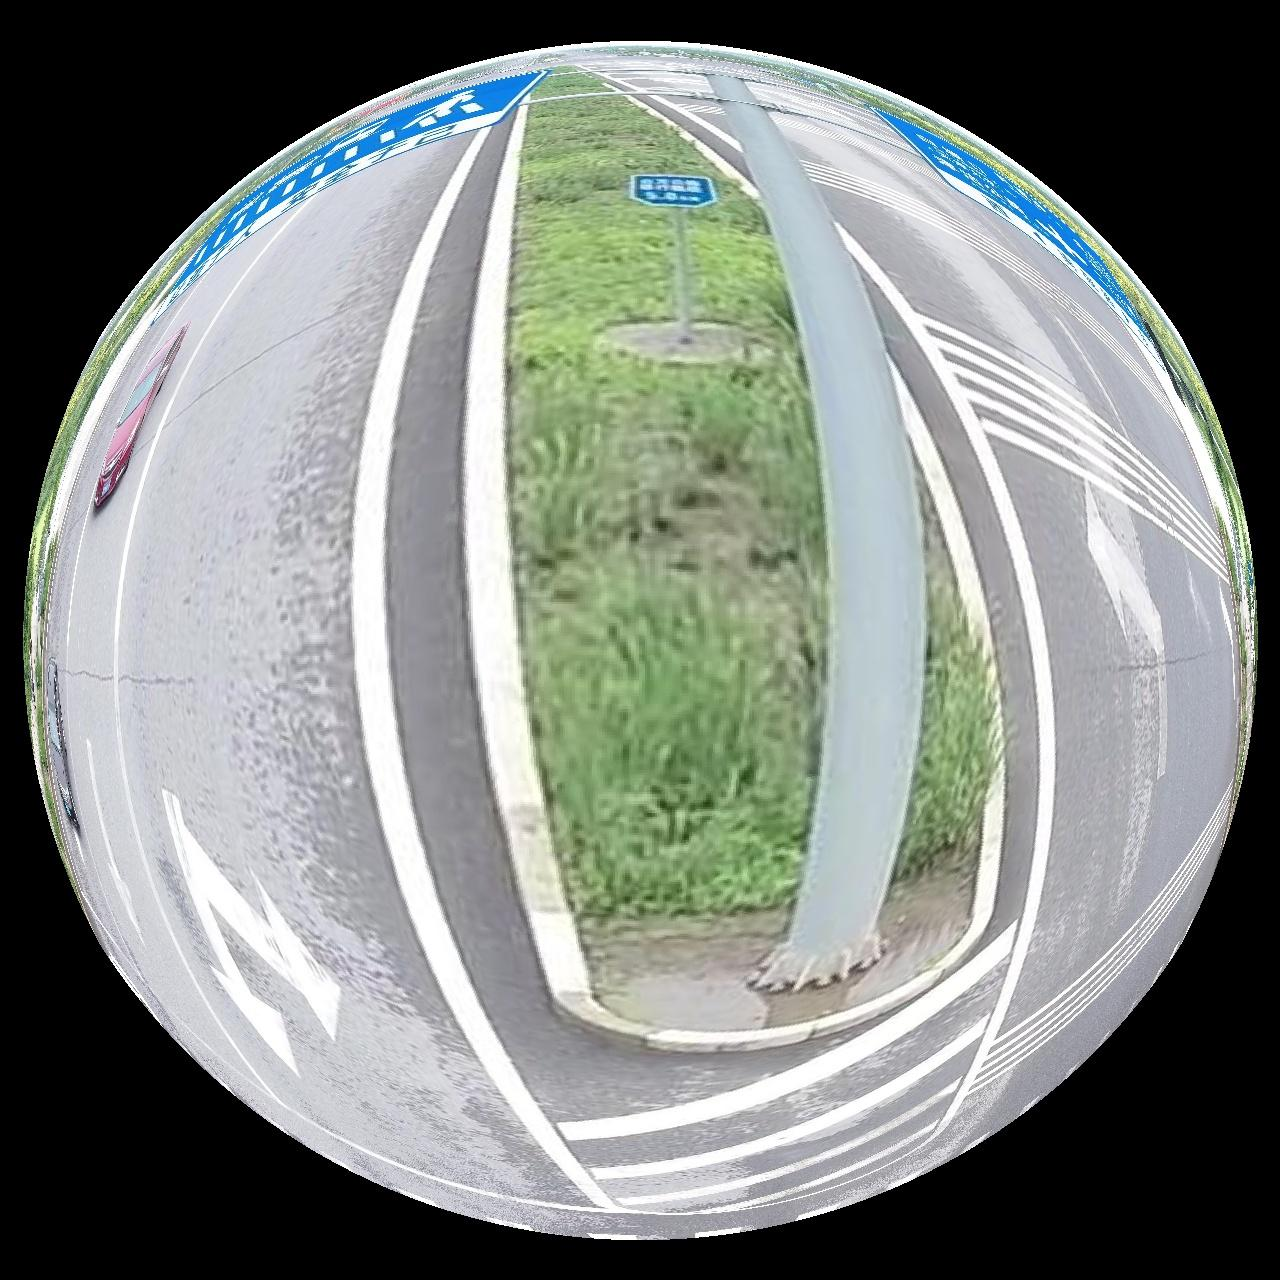cars: (91, 322, 188, 509), (43, 659, 76, 831)
trees: (506, 96, 830, 921), (903, 526, 996, 876)
